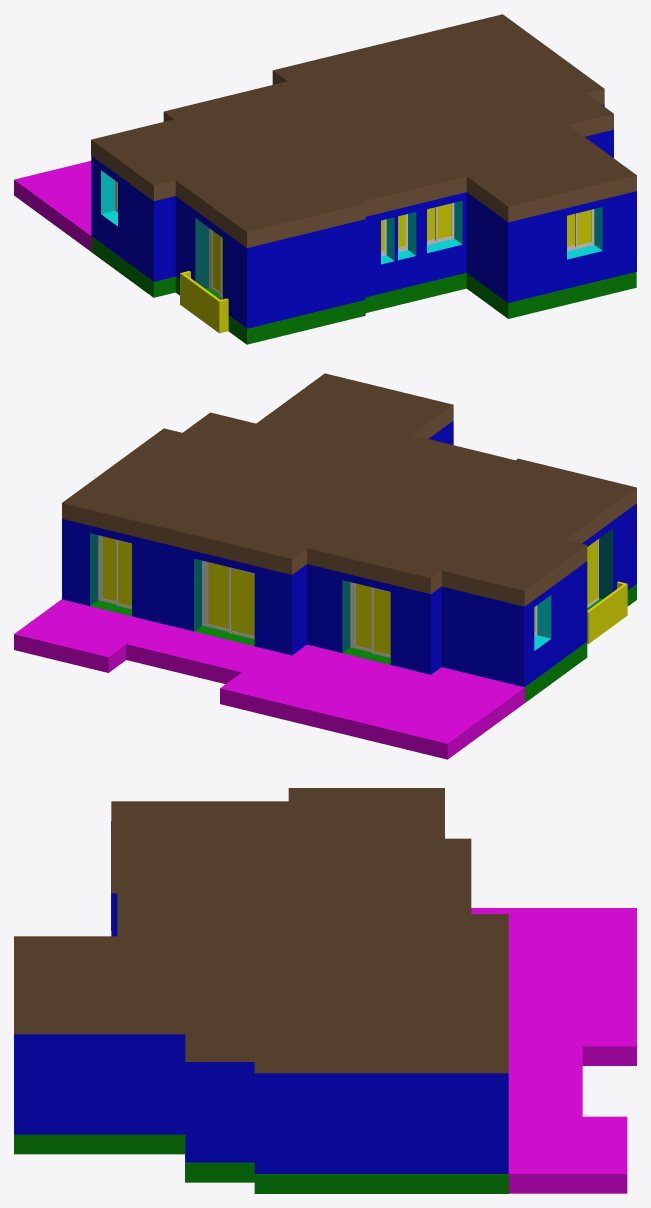
File: Floorplan_v2.fbx
3 renders of one model, top to bottom at view 1: azimuth 30°, elevation 25°; view 2: azimuth 150°, elevation 25°; view 3: azimuth 270°, elevation 25°, orthographic. The views are drawn at different scales.
Parts seen in each view (by area): view 1: RoofExtrude, Walls_GRP, FloorExtrude, FrenchBalcony1, FrenchBalcony2, WindowLeftBed05, WindowLeftBed04, DoorRightBed03; view 2: RoofExtrude, Walls_GRP, FloorExtrude, LargeBalconyDoorLeft1, LargeBalconyDoorRight1, DoorLeftBed04, DoorRightBed04, WindowLeftKitchen, WindowRightKitchen, FrenchBalcony2, DoorLeftBed03, FrenchBalcony1; view 3: RoofExtrude, Walls_GRP, FloorExtrude.
Part boxes in pixels (x1,y1,x2,y2): RoofExtrude: [91, 14, 636, 247]; Walls_GRP: [91, 104, 636, 328]; FloorExtrude: [14, 161, 636, 344]; FrenchBalcony1: [180, 289, 228, 333]; FrenchBalcony2: [180, 272, 221, 316]; WindowLeftBed05: [435, 203, 452, 241]; WindowLeftBed04: [575, 209, 592, 247]; DoorRightBed03: [211, 229, 219, 294]; RoofExtrude: [62, 373, 636, 606]; Walls_GRP: [62, 420, 636, 687]; FloorExtrude: [14, 584, 636, 759]; LargeBalconyDoorLeft1: [228, 567, 254, 639]; LargeBalconyDoorRight1: [206, 561, 228, 631]; DoorLeftBed04: [371, 587, 390, 657]; DoorRightBed04: [353, 583, 371, 652]; WindowLeftKitchen: [116, 539, 131, 609]; WindowRightKitchen: [101, 536, 116, 604]; FrenchBalcony2: [587, 583, 627, 628]; DoorLeftBed03: [587, 539, 598, 607]; FrenchBalcony1: [587, 600, 627, 643]; RoofExtrude: [14, 788, 508, 1073]; Walls_GRP: [14, 821, 508, 1173]; FloorExtrude: [14, 908, 636, 1193].
Bounding box in the file's own units: 1448 × 355 × 1434.
